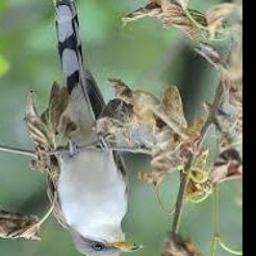Cuckoo: (48, 0, 144, 256)
